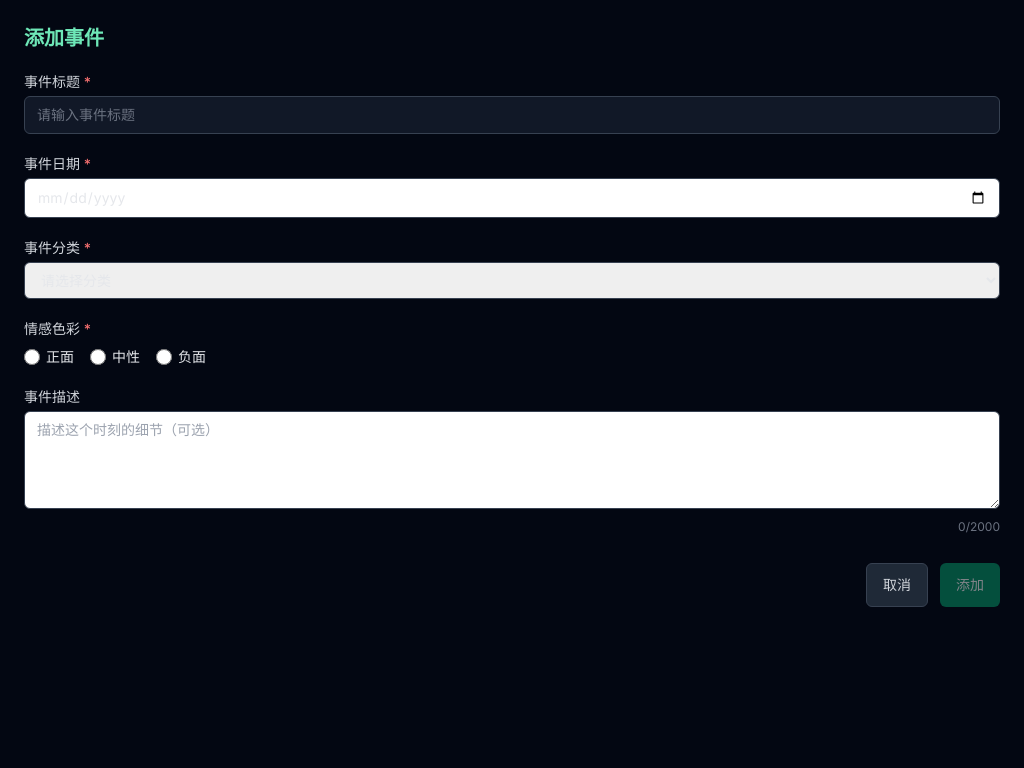
Test: EventForm › Unsaved changes cancel › should dismiss dialog when continuing editing
# Make form dirty
In the field labelled "事件标题 *": (512, 115) top-left (24, 96), bottom-right (1000, 134), type "Dirty"
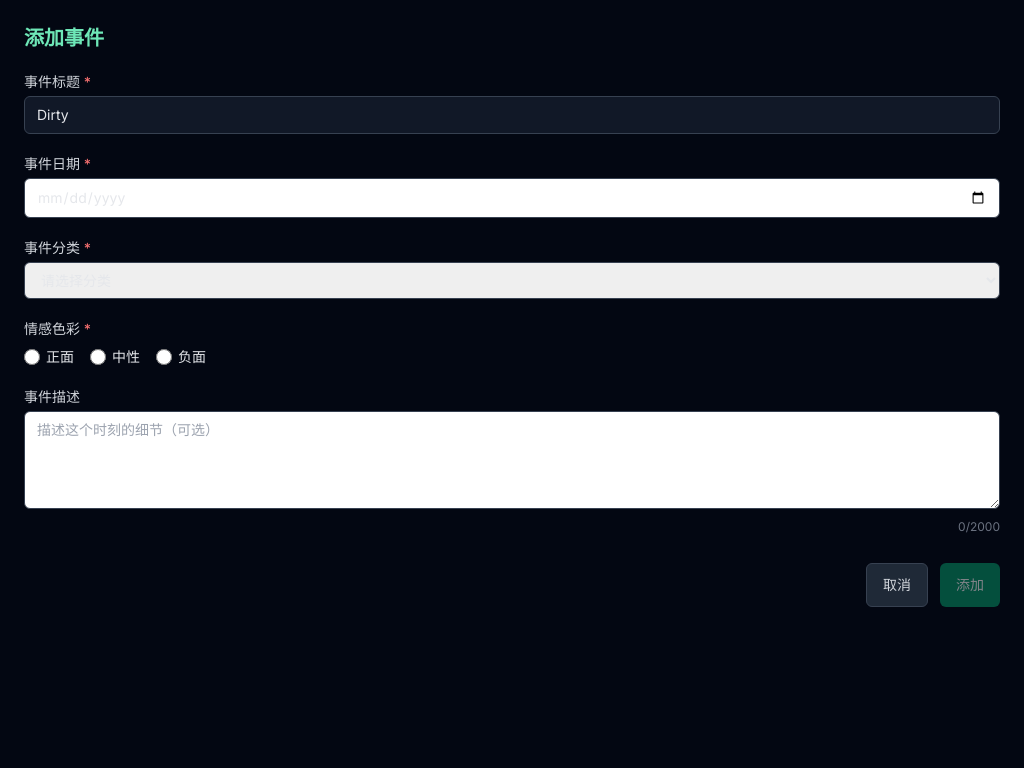
# Click cancel
Click the button "取消": (897, 585) top-left (866, 563), bottom-right (928, 607)
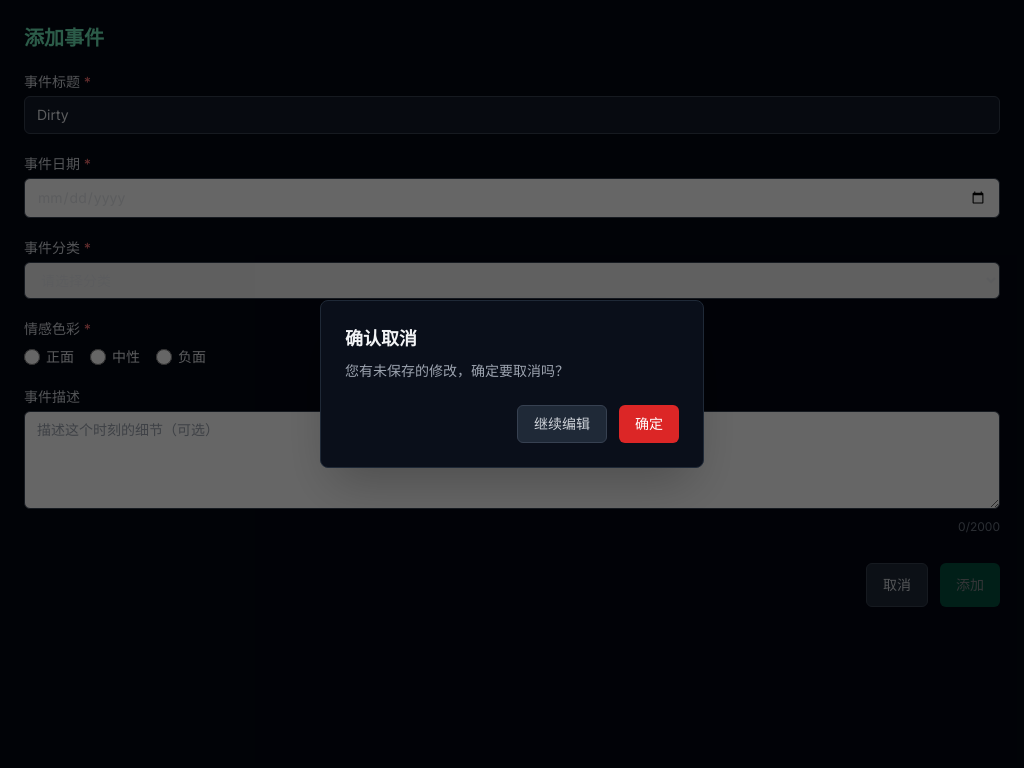
# Click "继续编辑" in dialog
Click the button "继续编辑": (562, 424) top-left (517, 405), bottom-right (607, 443)
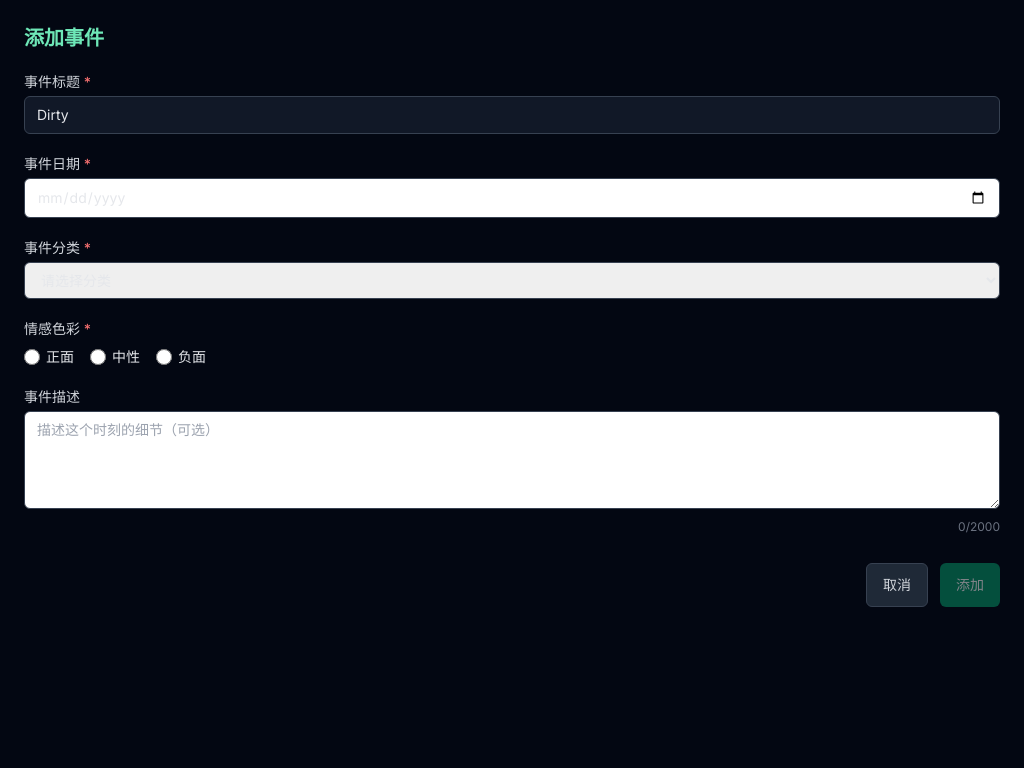
Now the dialog is gone
